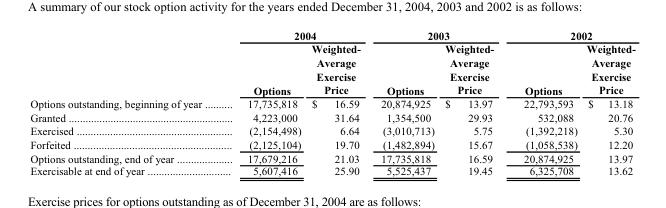table: (29, 29, 634, 176)
table column: (29, 29, 223, 176), (223, 29, 305, 176), (508, 29, 581, 176), (370, 29, 439, 176), (439, 29, 508, 176), (305, 29, 370, 176), (581, 29, 634, 176)
table column header: (29, 29, 634, 96)
table row: (29, 41, 634, 96), (29, 96, 634, 110), (29, 123, 634, 137), (29, 137, 634, 151), (29, 110, 634, 123), (29, 151, 634, 164), (29, 29, 634, 41), (29, 164, 634, 176)
table spanning cell: (223, 29, 370, 41), (370, 29, 508, 41), (508, 29, 634, 41)
